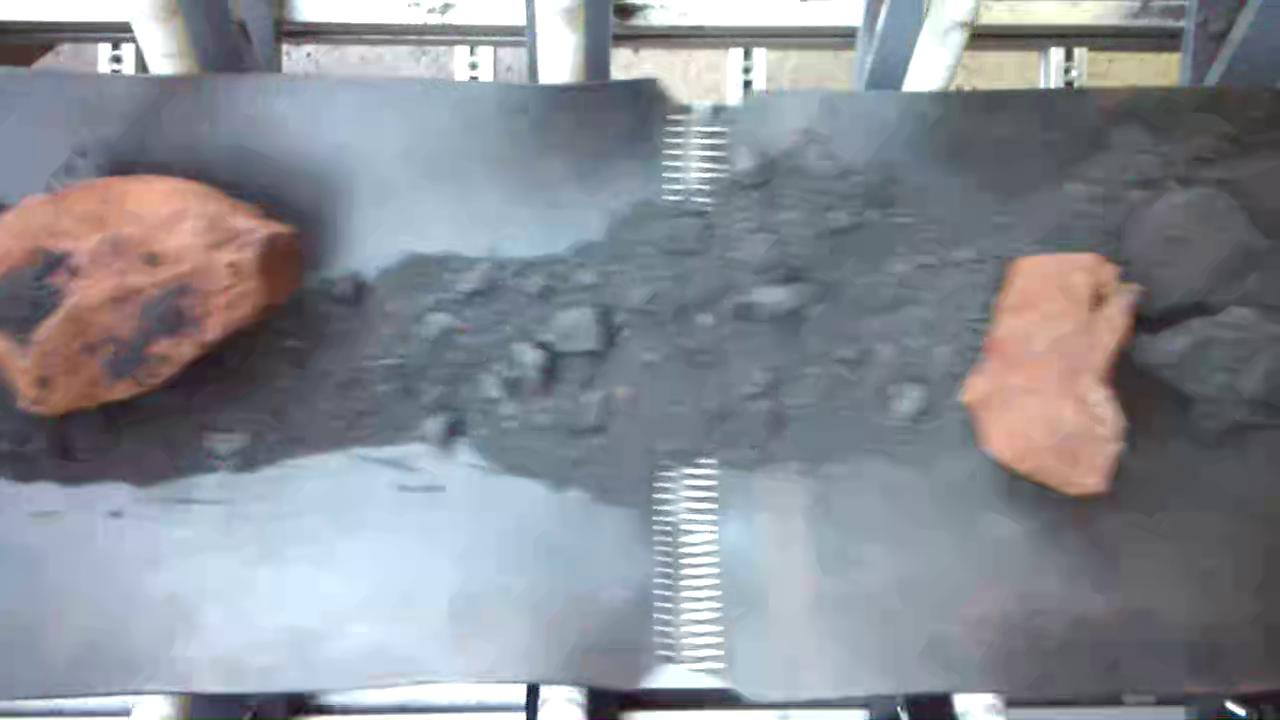conveyor: (1, 95, 1280, 695)
